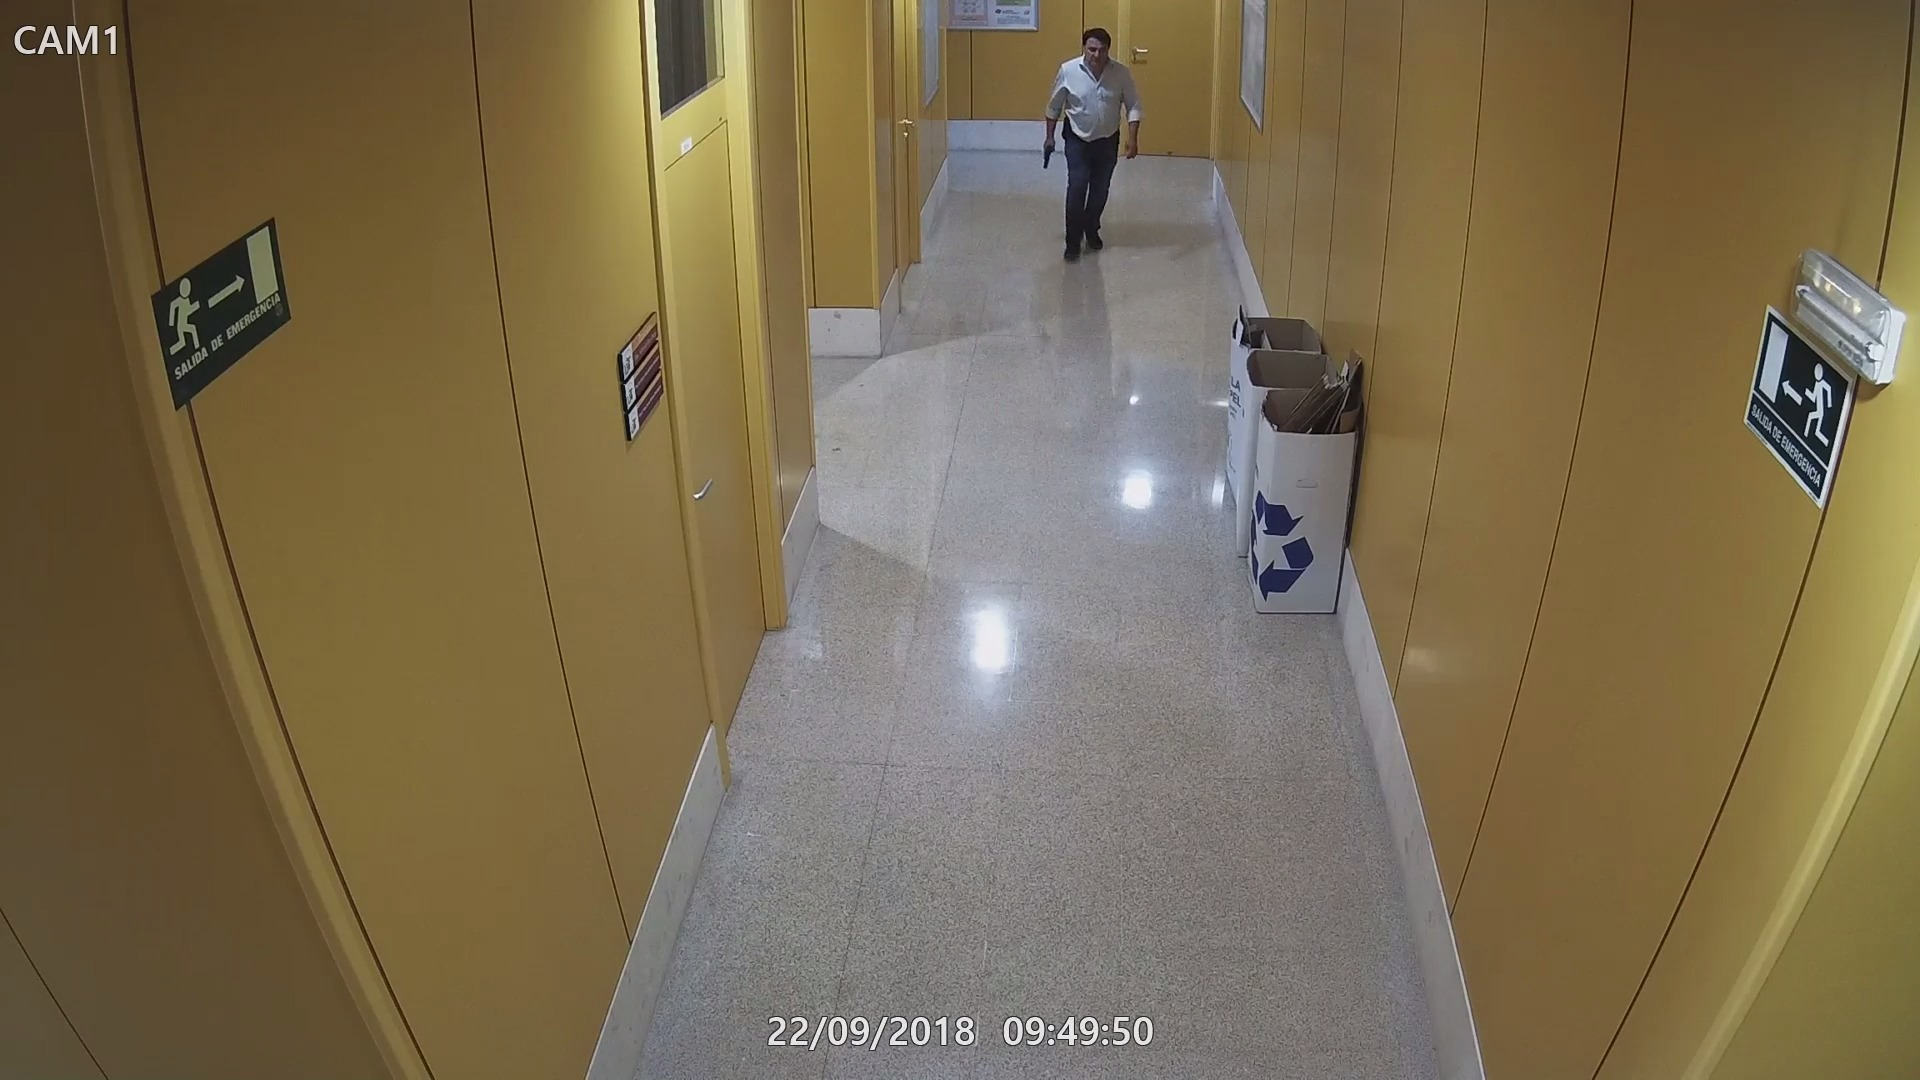Handgun: (1036, 136, 1063, 170)
